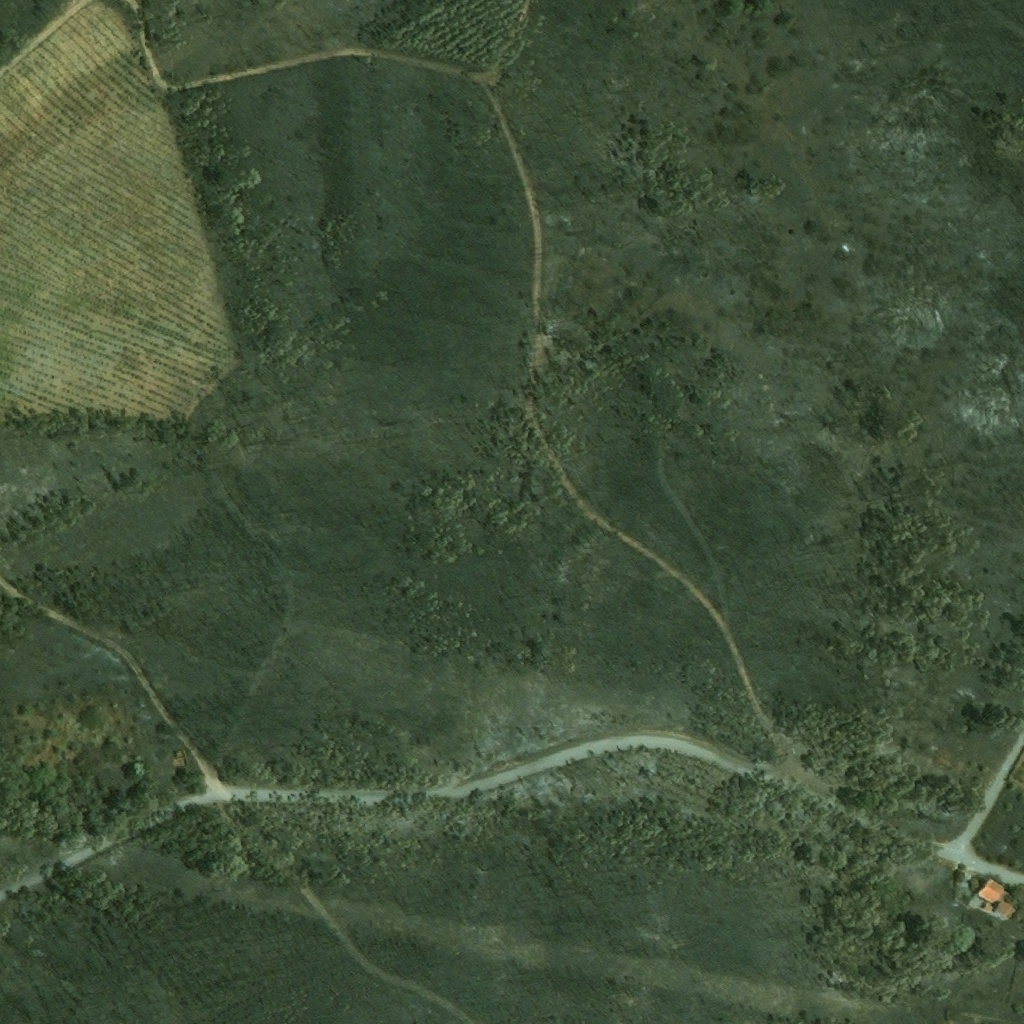0 no-damage: (975, 877, 1009, 907), (997, 902, 1016, 917)
